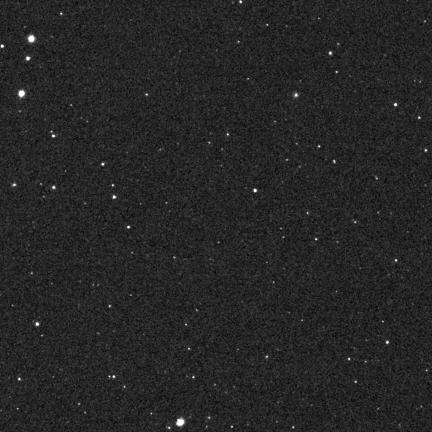blob: (18, 90, 25, 97), (28, 36, 35, 43)
